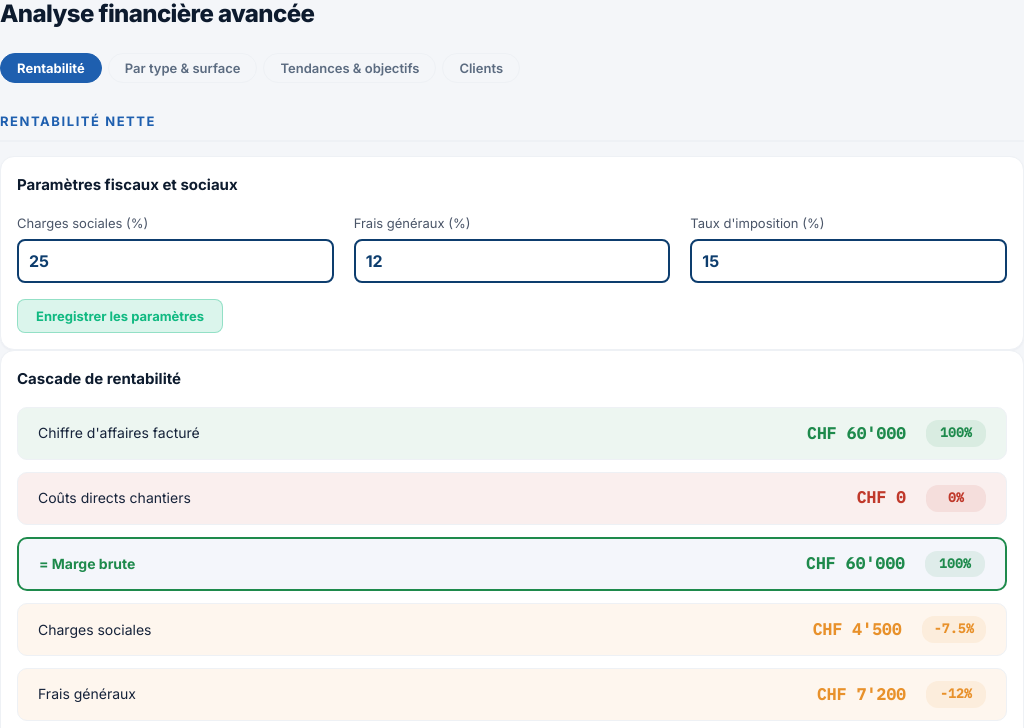
Test: VUE PAR TYPE & SURFACE — corps de métier (CHF/m²) › affiche le tableau de rentabilité par type + le classement, avec le type réel
The width and height of the screenshot is (1024, 728).
Step 1. Click the button "Par type & surface" → (183, 68), box [108,53,257,83]
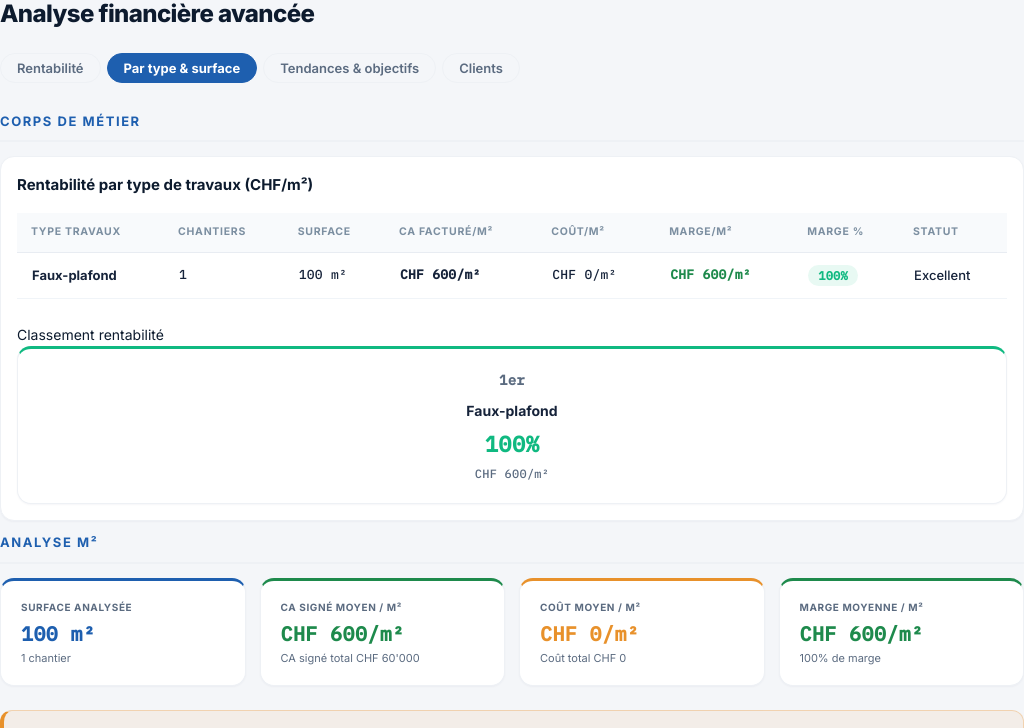
Expected: the text "Rentabilité par type de travaux (CHF/m²)" is shown, [17,175,313,194]
Expected: the text "Classement rentabilité" is shown, [17,326,164,343]
Expected: the text "Faux-plafond" in the row of "Excellent" is shown, [32,267,117,283]
